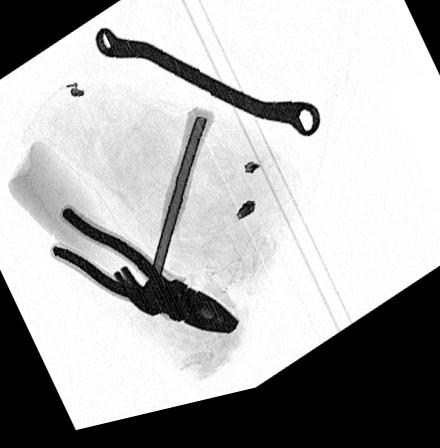Hammer: (114, 113, 220, 336)
Pliers: (50, 203, 244, 346)
Wrench: (95, 29, 322, 152)
